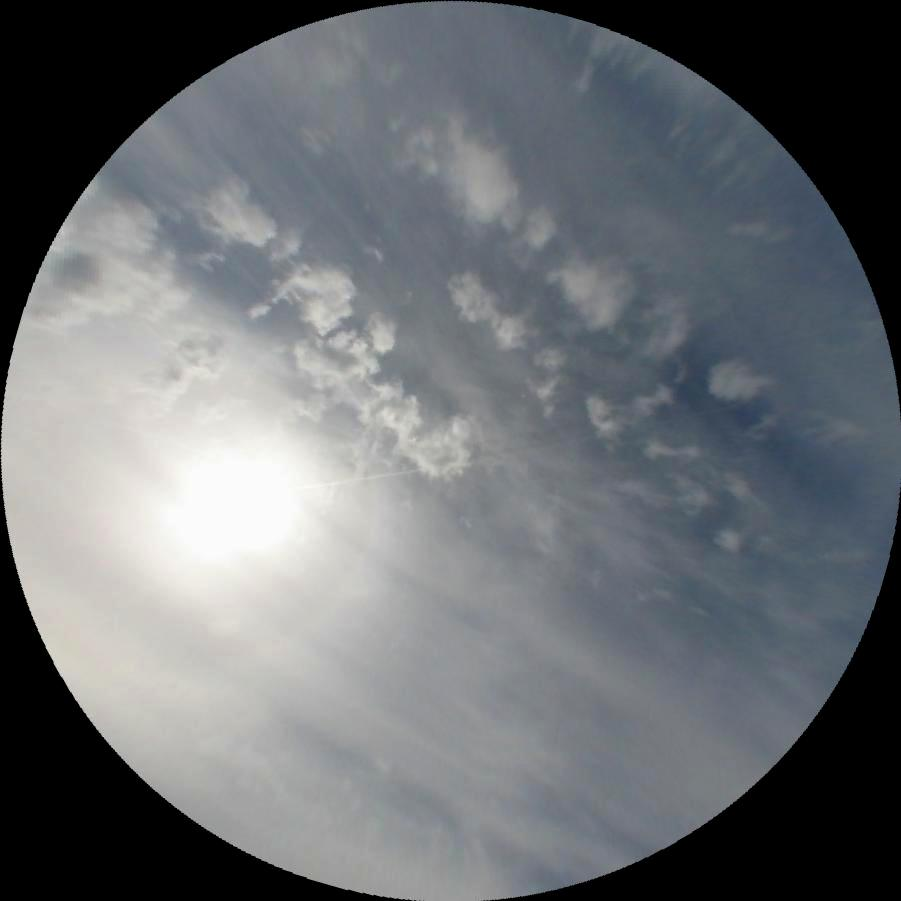contrail young: (292, 402, 741, 494)
sun: (154, 442, 304, 569)
